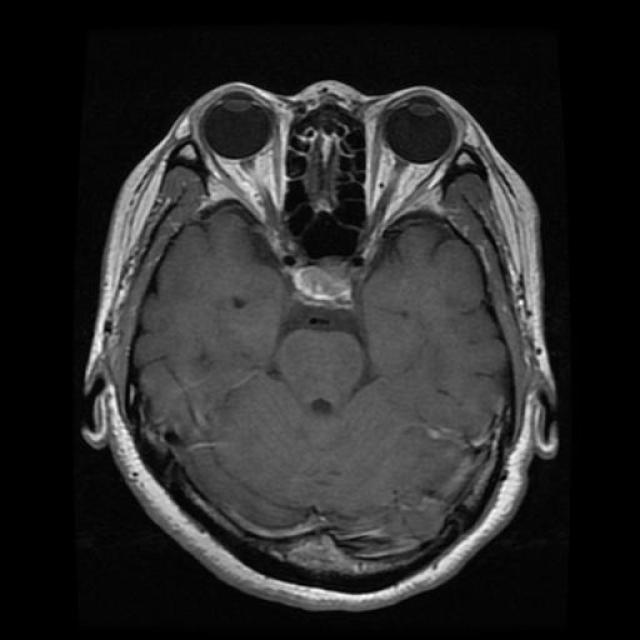brain_tumor: (286, 260, 365, 344)
